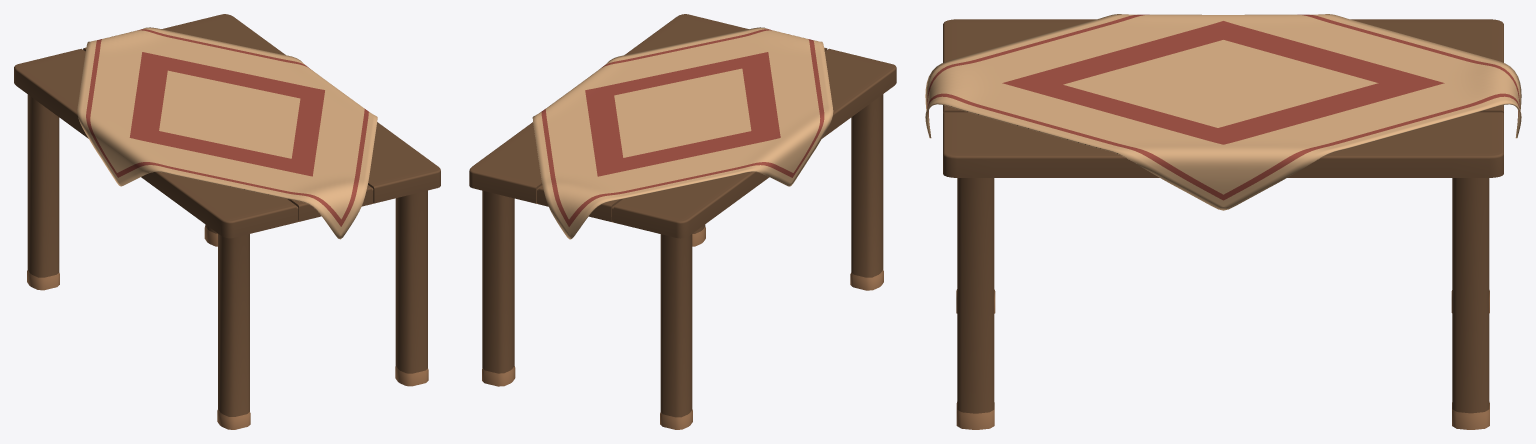
Rendered from wooden-table.fbx.
3 views of the same model, side by side, from view 1: azimuth 30°, elevation 25°; view 2: azimuth 150°, elevation 25°; view 3: azimuth 270°, elevation 25° (orthographic). The views are drawn at different scales.
Parts seen in each view (by area): view 1: Cloth, Table; view 2: Cloth, Table; view 3: Cloth, Table.
Boxes of the visible parts, box(x1,y1,x2,y2) form: Cloth: box(77, 27, 377, 239); Table: box(14, 14, 440, 429); Cloth: box(532, 27, 833, 239); Table: box(469, 14, 896, 429); Cloth: box(925, 14, 1521, 210); Table: box(943, 19, 1503, 429).
Size of the model in its own units: 241 by 222 by 422.
